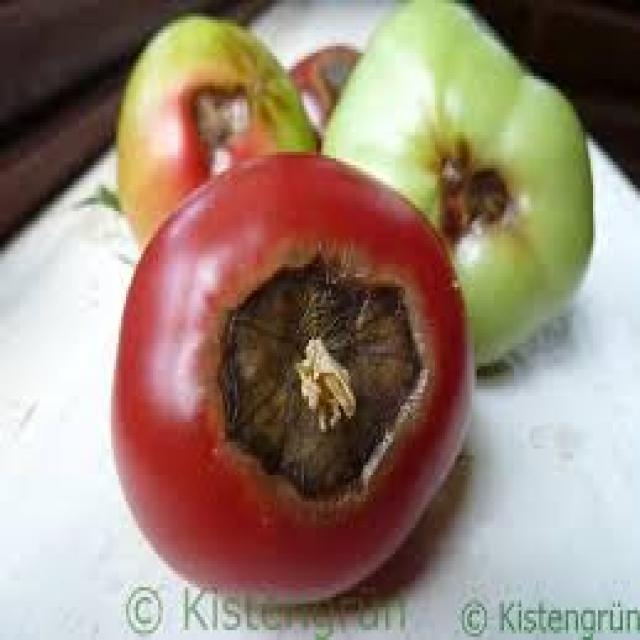organic waste: (111, 145, 470, 597), (314, 0, 593, 366), (114, 14, 314, 258), (287, 43, 358, 148)
